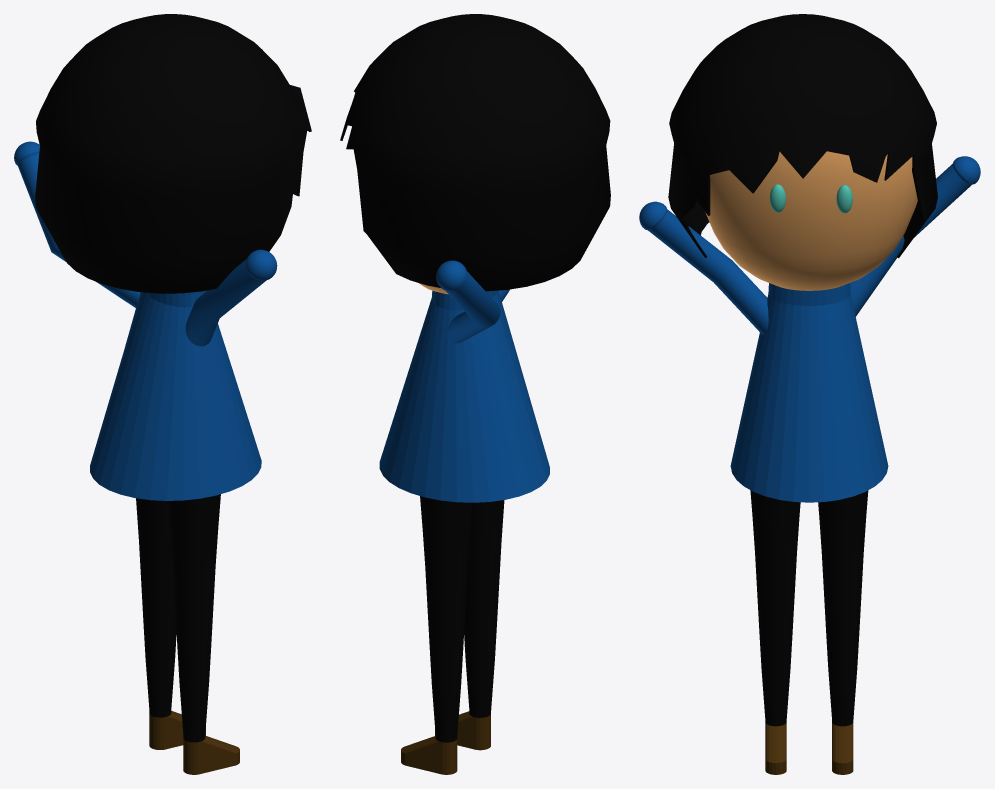
The model's file is Boy1_Goal.fbx.
3 renders of one model, left to right at view 1: azimuth 30°, elevation 25°; view 2: azimuth 150°, elevation 25°; view 3: azimuth 270°, elevation 25°, orthographic.
Visible parts, largest first — view 1: Sphere040, Sphere028, Cylinder010, Sphere037, Sphere036, Sphere035; view 2: Sphere040, Sphere028, Sphere037, Cylinder010, Sphere035; view 3: Sphere028, Sphere040, Cylinder010, Sphere037, Sphere036, Sphere035.
Part boxes in pixels (x1=…): Sphere040: x1=35, y1=14, x2=311, y2=293; Sphere028: x1=90, y1=290, x2=261, y2=500; Cylinder010: x1=168, y1=494, x2=239, y2=774; Sphere037: x1=136, y1=498, x2=205, y2=749; Sphere036: x1=185, y1=249, x2=277, y2=346; Sphere035: x1=14, y1=141, x2=140, y2=307; Sphere040: x1=340, y1=14, x2=610, y2=291; Sphere028: x1=379, y1=283, x2=549, y2=502; Sphere037: x1=401, y1=496, x2=472, y2=774; Cylinder010: x1=435, y1=500, x2=504, y2=750; Sphere035: x1=436, y1=260, x2=500, y2=343; Sphere028: x1=705, y1=151, x2=917, y2=502; Sphere040: x1=668, y1=14, x2=937, y2=258; Cylinder010: x1=750, y1=490, x2=800, y2=774; Sphere037: x1=818, y1=490, x2=868, y2=774; Sphere036: x1=639, y1=201, x2=768, y2=334; Sphere035: x1=850, y1=156, x2=980, y2=316.
Size of the model in its own units: 110 by 321 by 137.
1 material, 1 textured.
